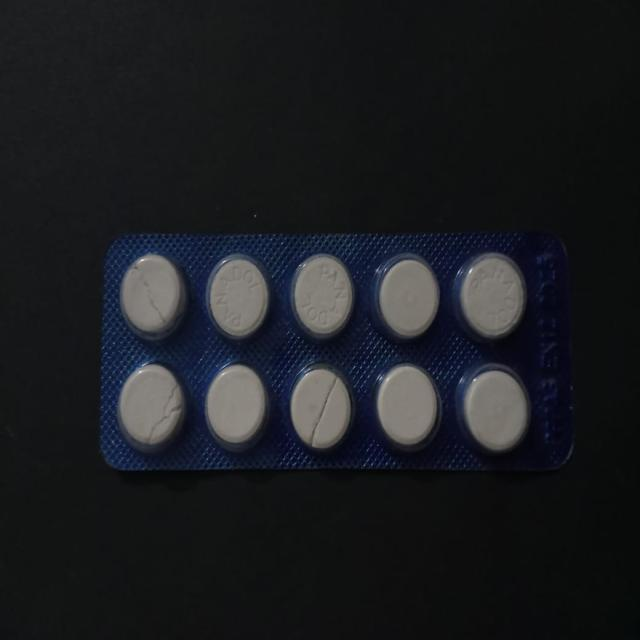defect: (115, 361, 189, 454), (119, 250, 190, 344), (288, 359, 357, 455)
